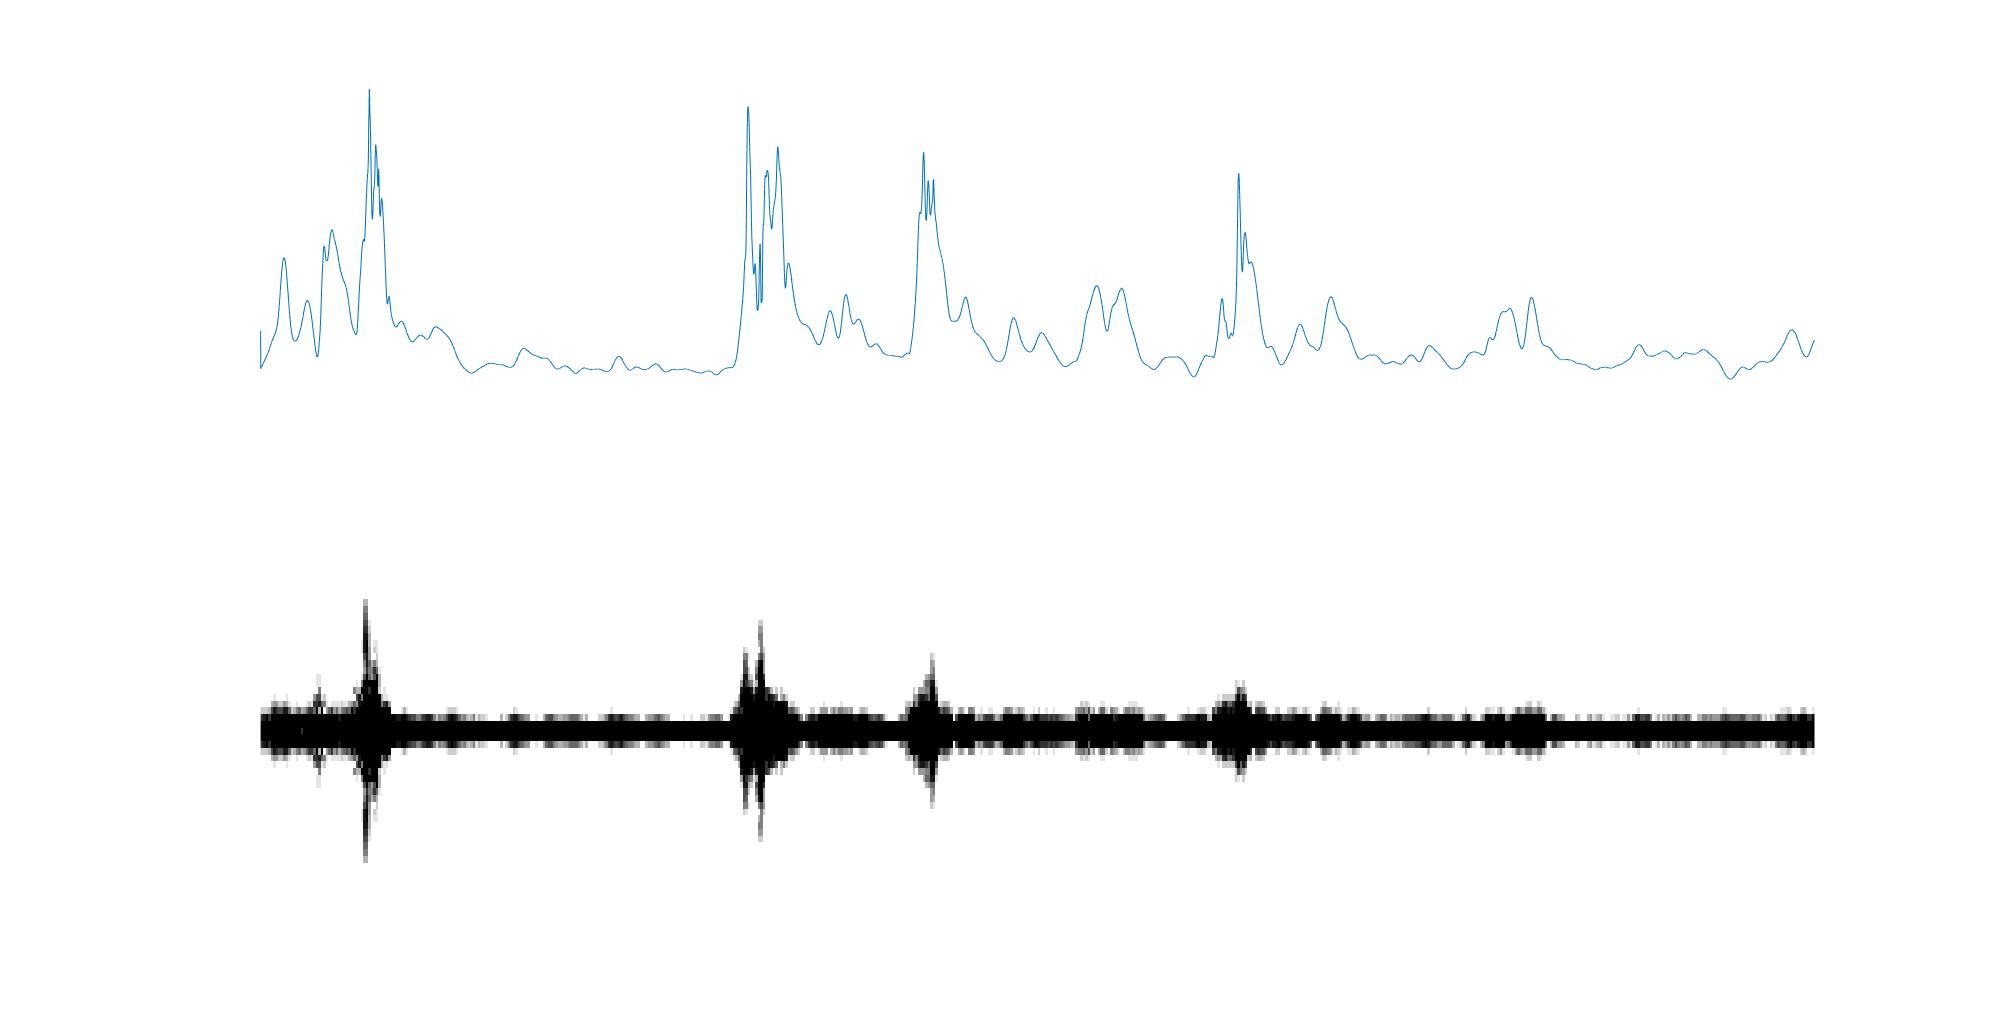spot: (350, 600, 390, 860)
